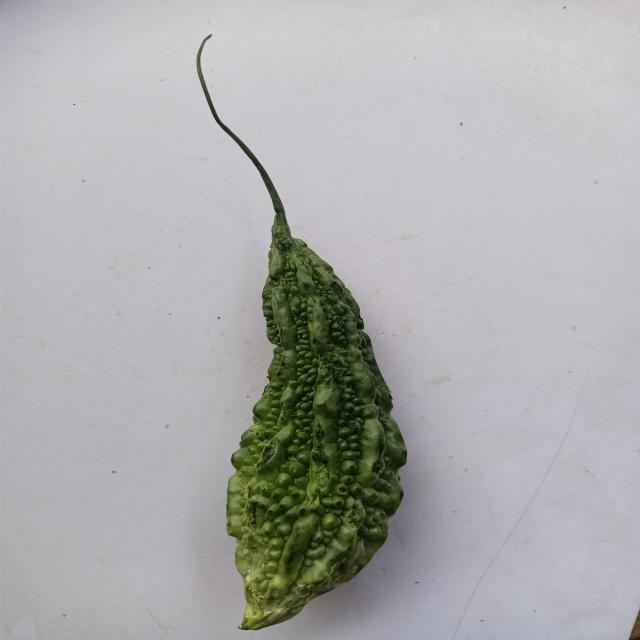Bitter Gourd: (120, 11, 449, 640)
